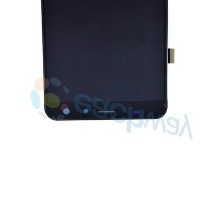phone: (30, 0, 180, 128)
